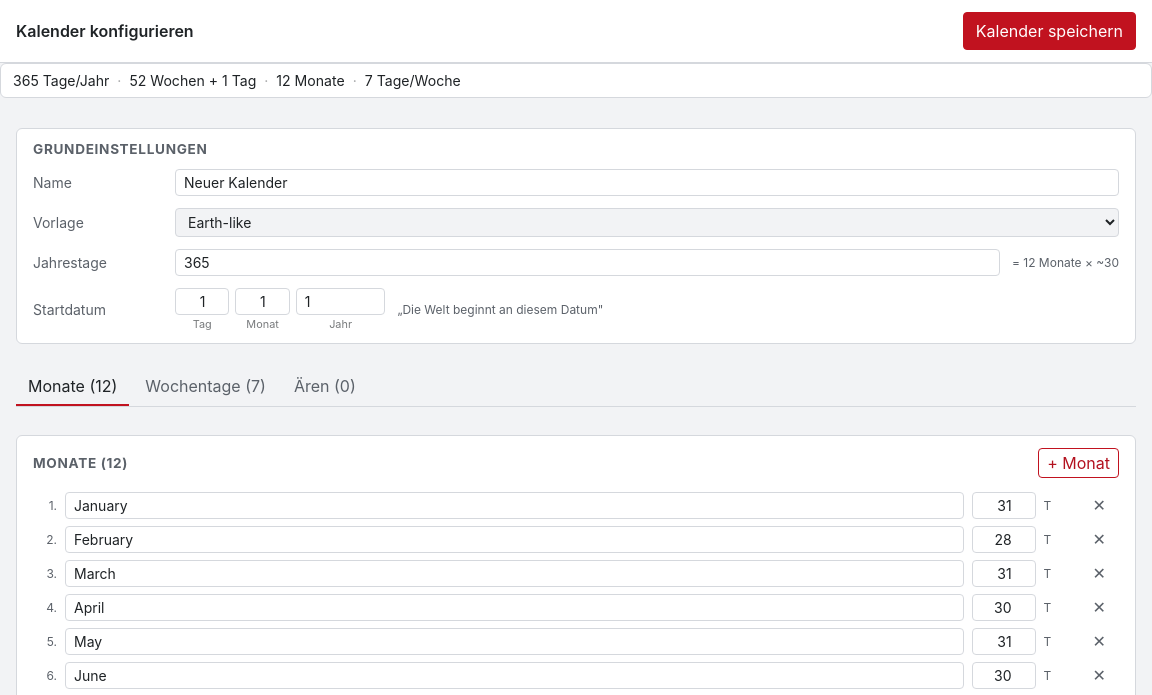
Test: M5-S02 calendar wizard › step content (#102) › Weekdays section renders controls — not just a placeholder
// Steps became tabs — switch to the weekdays tab, which shows a real add control.
Step 1. Click the tab "Wochentage (7)" → (206, 387), box [133,368,278,406]
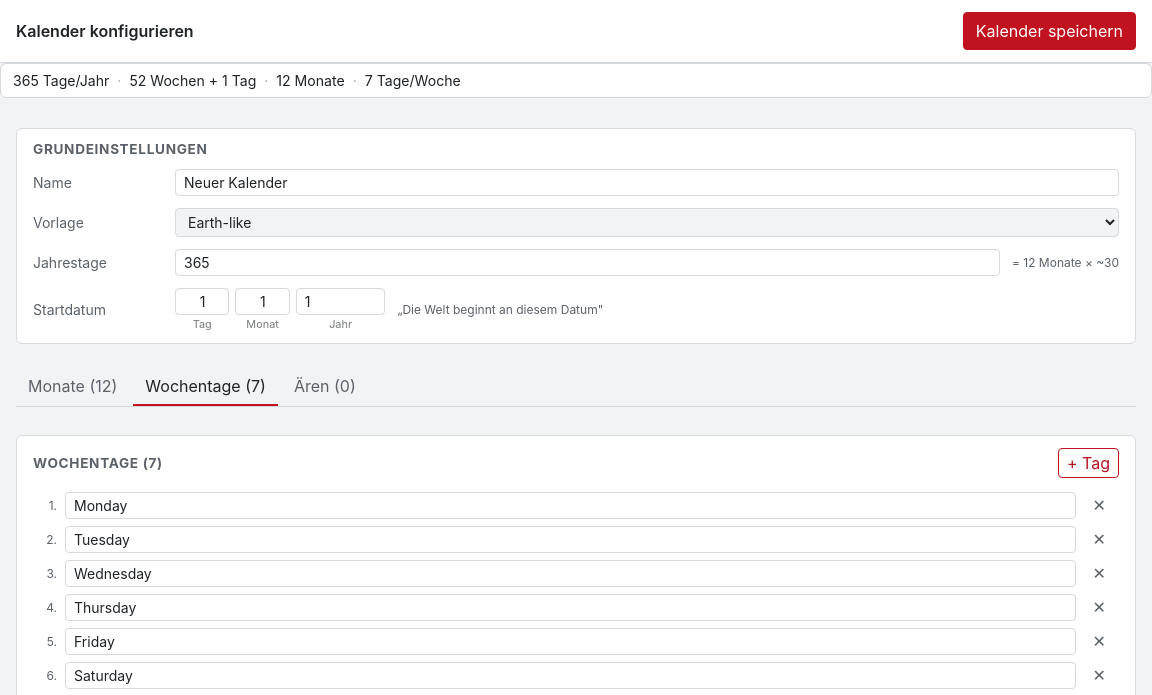
Now the button "+ Tag" is shown, box [1058,448,1119,478]
